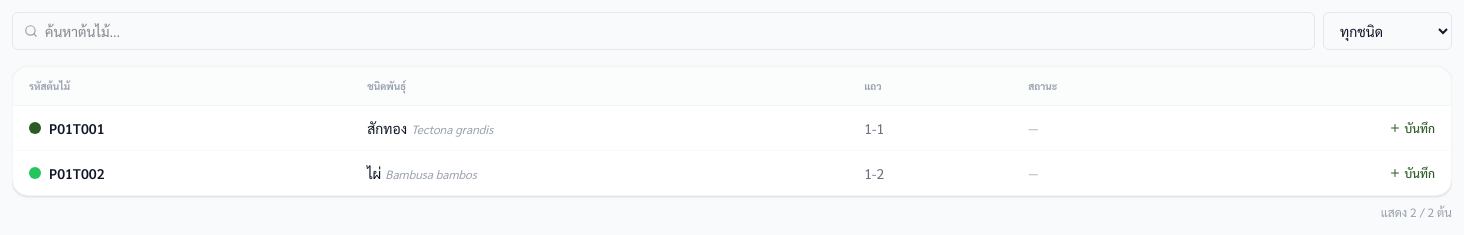
Test: TreeTable › should filter by species using dropdown
Select "A01 — สักทอง" in the dropdown at [1388, 31], box [1323,12,1452,50]
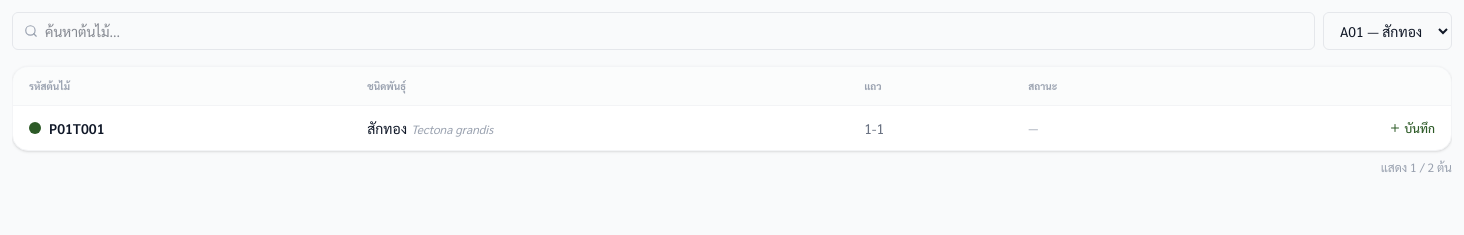
Expected: the text "P01T001" is shown, [29,119,104,137]
Result: the text "P01T002" is gone
